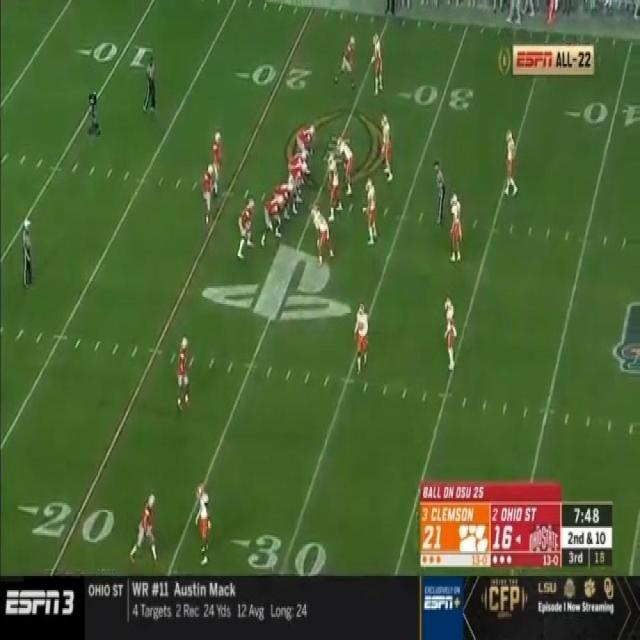center: (293, 164, 310, 208)
db: (193, 482, 214, 564), (500, 128, 521, 198), (442, 294, 460, 372), (450, 193, 464, 266), (371, 33, 386, 99)
lb: (353, 299, 372, 375), (378, 115, 394, 186), (364, 180, 379, 243)
qb: (210, 132, 222, 178)
